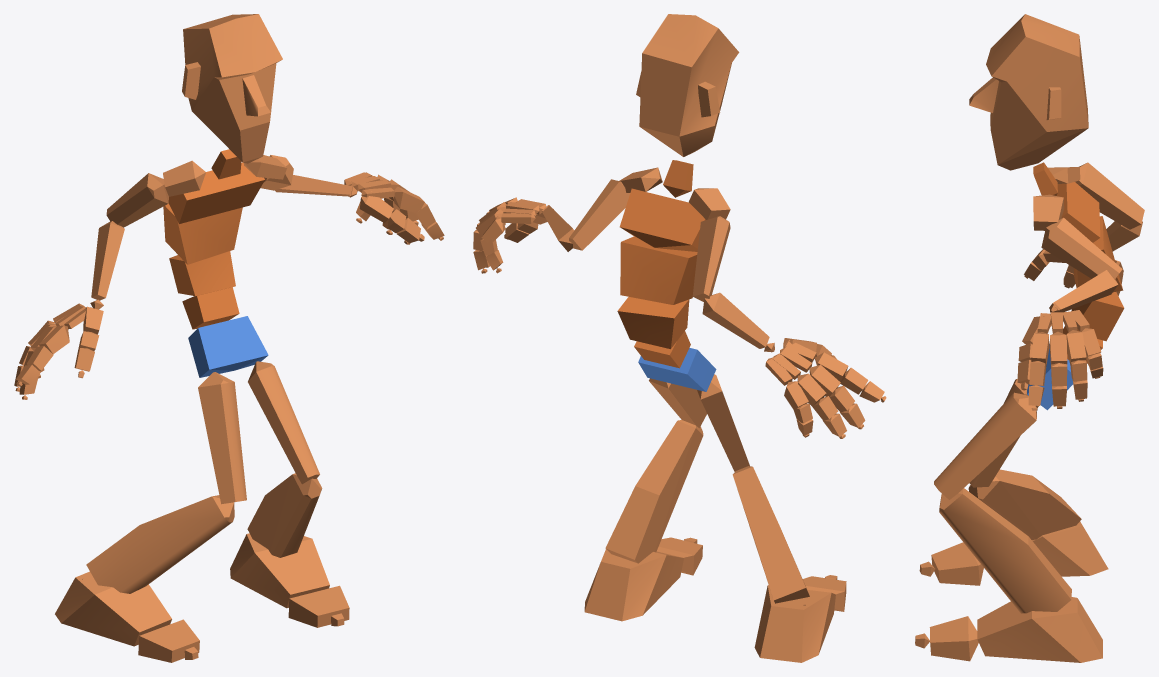
Rendered from prueba249.obj.
The picture shows the model from 3 angles, left to right: view 1: azimuth 30°, elevation 25°; view 2: azimuth 150°, elevation 25°; view 3: azimuth 270°, elevation 25°; orthographic projection. The views are drawn at different scales.
Parts seen in each view (by area): view 1: BOPED_Head, BOPED_R_leg, BOPED_R_foot, BOPED_R_foot01, BOPED_R_legup, BOPED_L_leg, BOPED_L_legup, Bone01, Bone04, Bone05, Bone03, BOPED_R_arm_upper (+8 smaller); view 2: BOPED_Head, BOPED_L_leg, BOPED_R_foot01, BOPED_R_foot, Bone04, BOPED_R_leg, Bone05, Bone03, BOPED_R_arm_upper, BOPED_R_legup, BOPED_L_arm_upper, Bone01 (+9 smaller); view 3: BOPED_Head, BOPED_L_leg, BOPED_R_foot01, BOPED_R_leg, BOPED_L_legup, BOPED_R_foot, BOPED_L_arm_upper, BOPED_R_arm_upper, BOPED_R_foot_toe04, Bone05, BOPED_R_foot_toe01, Bone03 (+14 smaller).
Boxes of the visible parts, left/top/right/bottom form: BOPED_Head: left=182, top=14, right=282, bottom=163; BOPED_R_leg: left=86, top=495, right=234, bottom=593; BOPED_R_foot: left=55, top=571, right=171, bottom=646; BOPED_R_foot01: left=230, top=533, right=329, bottom=608; BOPED_R_legup: left=198, top=372, right=246, bottom=504; BOPED_L_leg: left=247, top=473, right=322, bottom=557; BOPED_L_legup: left=248, top=361, right=319, bottom=484; Bone01: left=188, top=316, right=268, bottom=377; Bone04: left=163, top=203, right=242, bottom=264; Bone05: left=168, top=162, right=264, bottom=223; Bone03: left=169, top=251, right=235, bottom=296; BOPED_R_arm_upper: left=106, top=173, right=168, bottom=227; BOPED_Head: left=636, top=14, right=739, bottom=156; BOPED_L_leg: left=605, top=420, right=703, bottom=563; BOPED_R_foot01: left=584, top=549, right=683, bottom=621; BOPED_R_foot: left=754, top=585, right=835, bottom=662; Bone04: left=620, top=236, right=697, bottom=304; BOPED_R_leg: left=732, top=466, right=809, bottom=603; Bone05: left=619, top=188, right=705, bottom=251; Bone03: left=617, top=297, right=689, bottom=349; BOPED_R_arm_upper: left=692, top=216, right=730, bottom=301; BOPED_R_legup: left=697, top=374, right=749, bottom=471; BOPED_L_arm_upper: left=569, top=179, right=630, bottom=250; Bone01: left=638, top=347, right=716, bottom=391; BOPED_Head: left=969, top=14, right=1088, bottom=170; BOPED_L_leg: left=939, top=488, right=1071, bottom=613; BOPED_R_foot01: left=977, top=597, right=1102, bottom=662; BOPED_R_leg: left=968, top=469, right=1081, bottom=539; BOPED_L_legup: left=934, top=392, right=1036, bottom=499; BOPED_R_foot: left=1032, top=521, right=1108, bottom=576; BOPED_L_arm_upper: left=1041, top=217, right=1122, bottom=278; BOPED_R_arm_upper: left=1075, top=162, right=1144, bottom=229; BOPED_R_foot_toe04: left=929, top=616, right=978, bottom=661; Bone05: left=1056, top=182, right=1100, bottom=242; BOPED_R_foot_toe01: left=931, top=542, right=983, bottom=585; Bone03: left=1071, top=292, right=1124, bottom=341.
Bounding box in the file's own units: 130 × 175 × 60.39.
